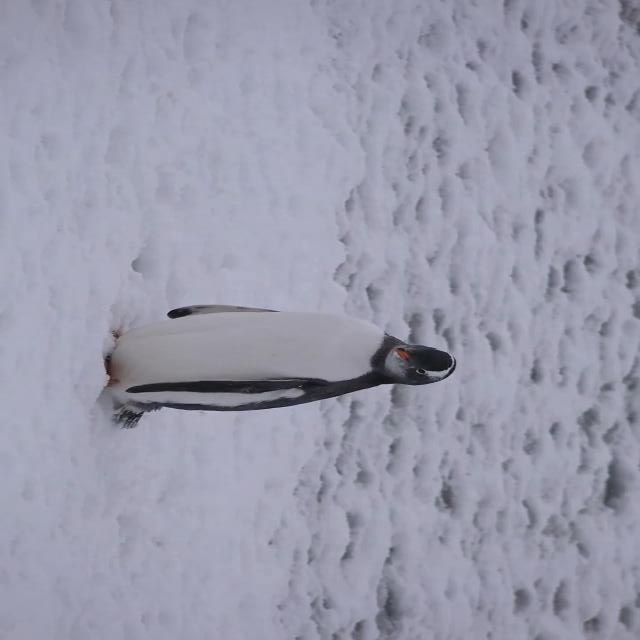penguin: (95, 302, 457, 432)
